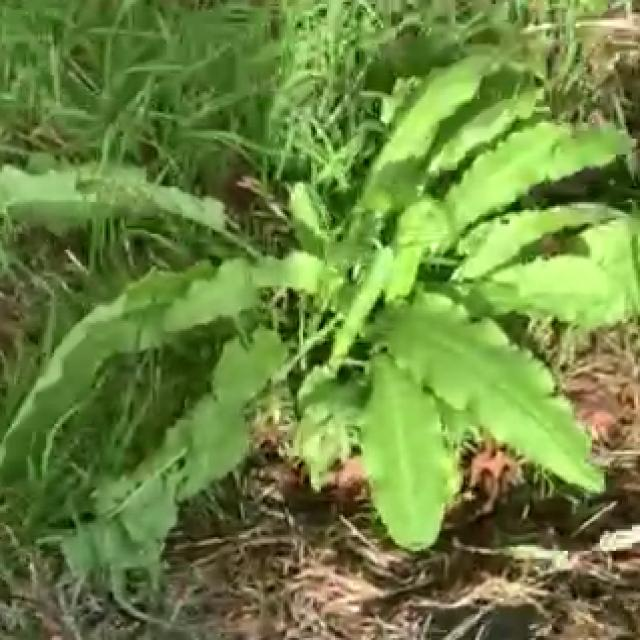organic waste: (24, 57, 640, 638)
